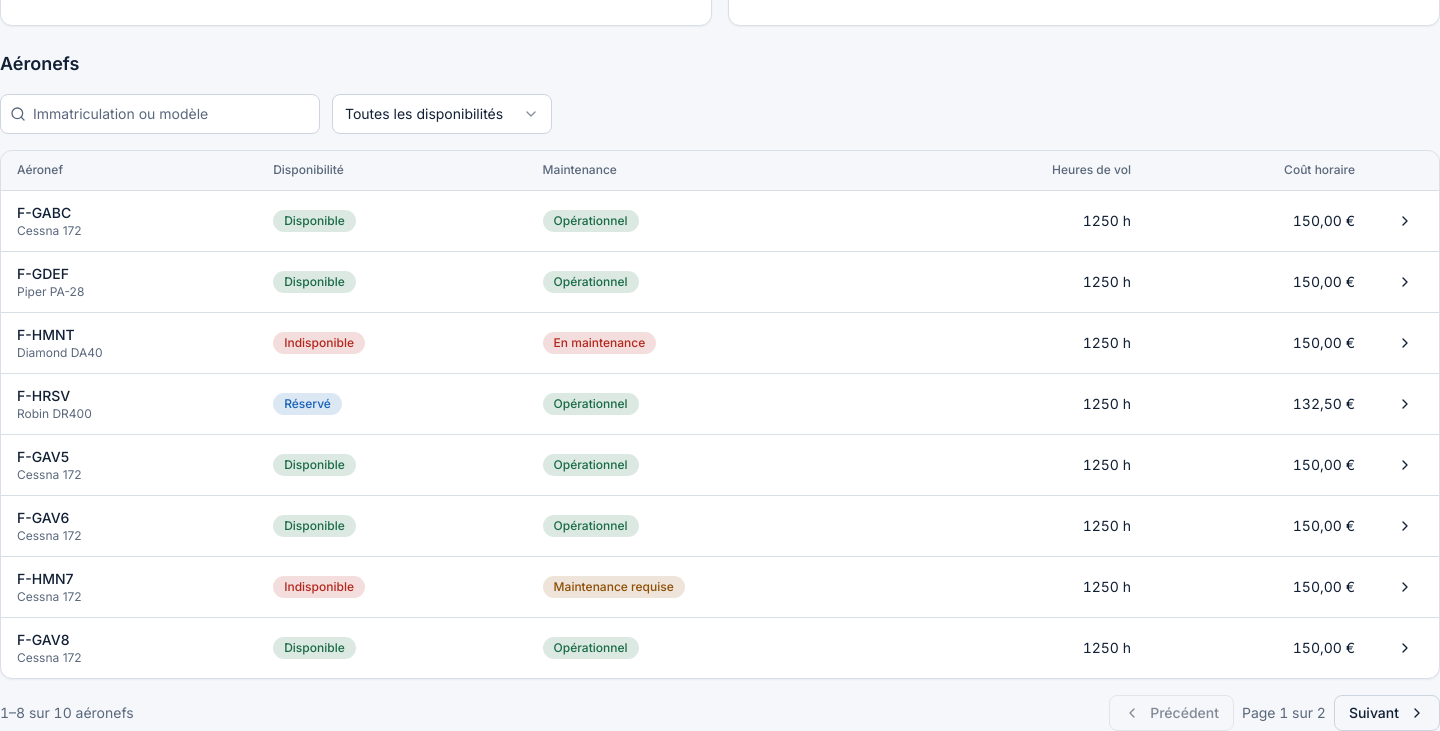
Test: FleetDashboard Component › affiche la pagination et change de page avec Précédent et Suivant
(page scrolled)
Expected: the text "F-GABC" is shown, [17,204,71,221]
Expected: the text "Page 1 sur 2" is shown, [1242,703,1326,723]
Step 1. Click the button "Suivant" → x=1387, y=713, box [1334,695,1439,730]
(page scrolled)
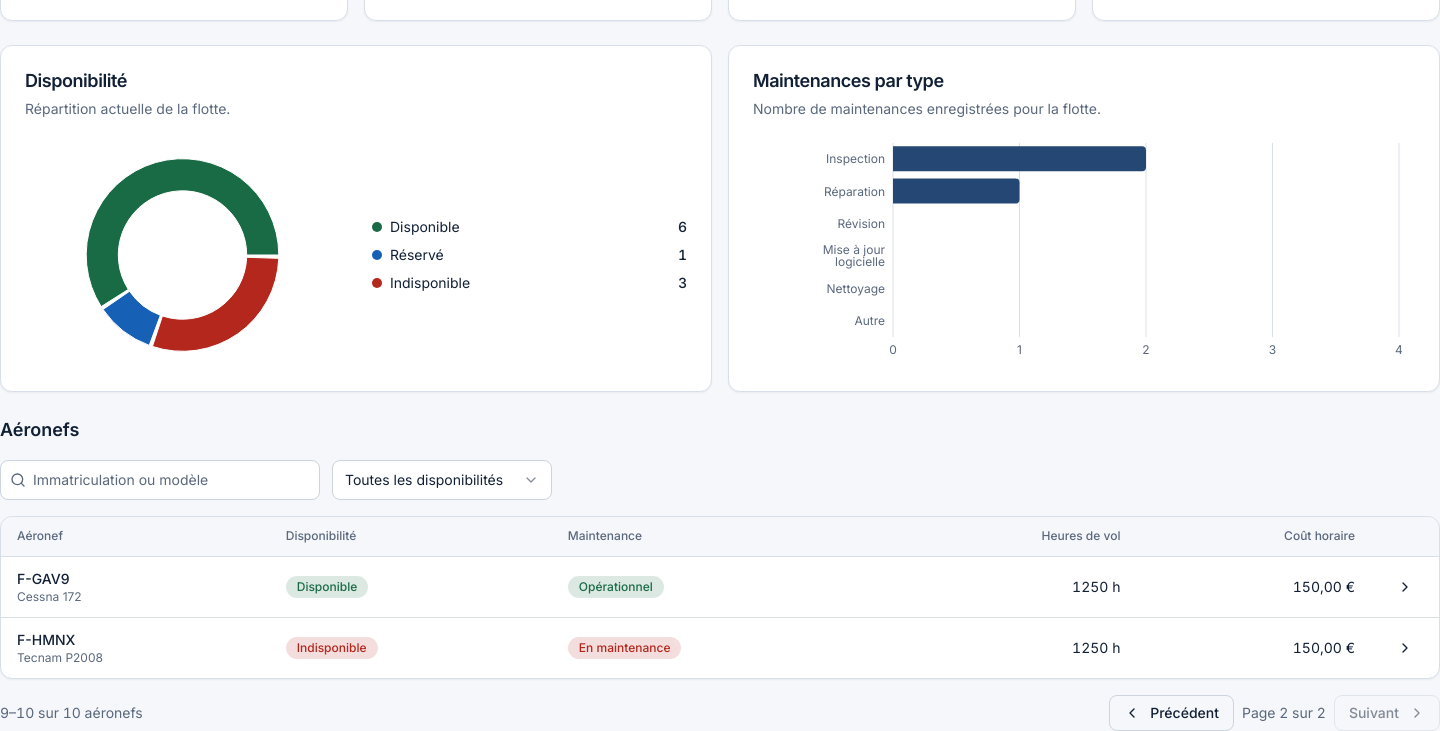
Now the text "F-GAV9" is shown, box [17,570,70,587]
Now the text "F-HMNX" is shown, box [17,631,75,648]
Now the text "F-GABC" is gone
Step 2. Click the button "Précédent" → x=1172, y=713, box [1109,695,1234,730]
(page scrolled)
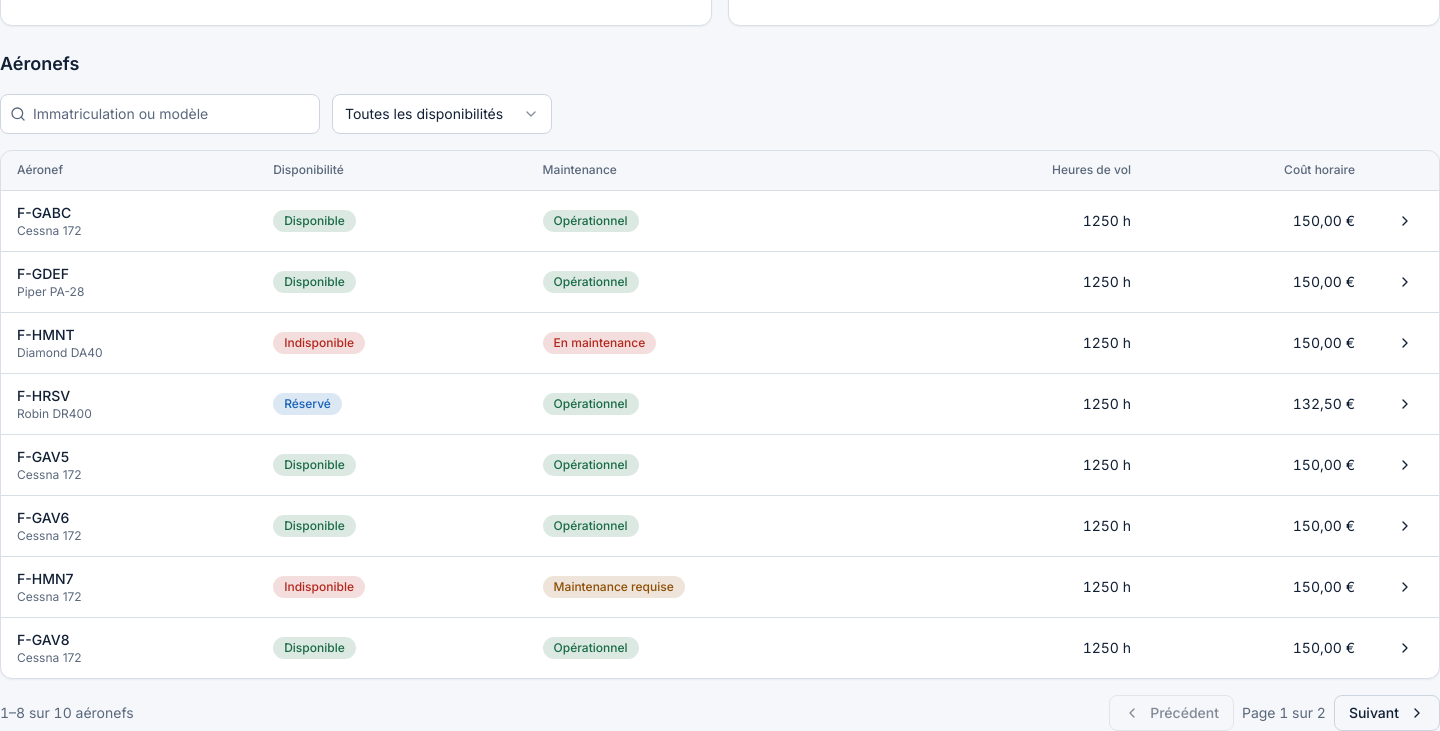
Now the text "F-GABC" is shown, box [17,204,71,221]
Step 3. Click the button "Suivant" → x=1387, y=713, box [1334,695,1439,730]
(page scrolled)
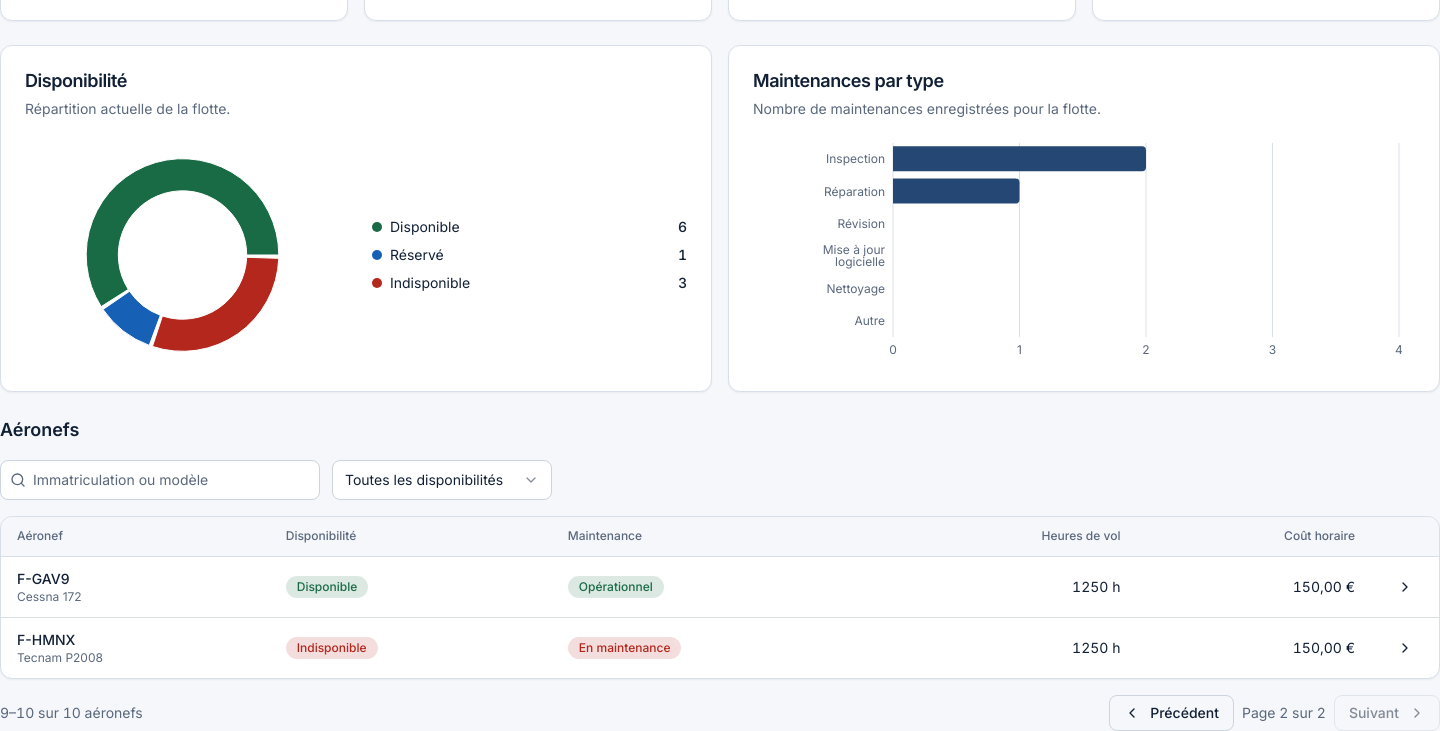
Now the text "F-GAV9" is shown, box [17,570,70,587]
Note: Une recherche ramène à la première page.
Step 4. Type "cessna" into the field named "Rechercher un aéronef" → x=160, y=480, box [0,460,320,500]
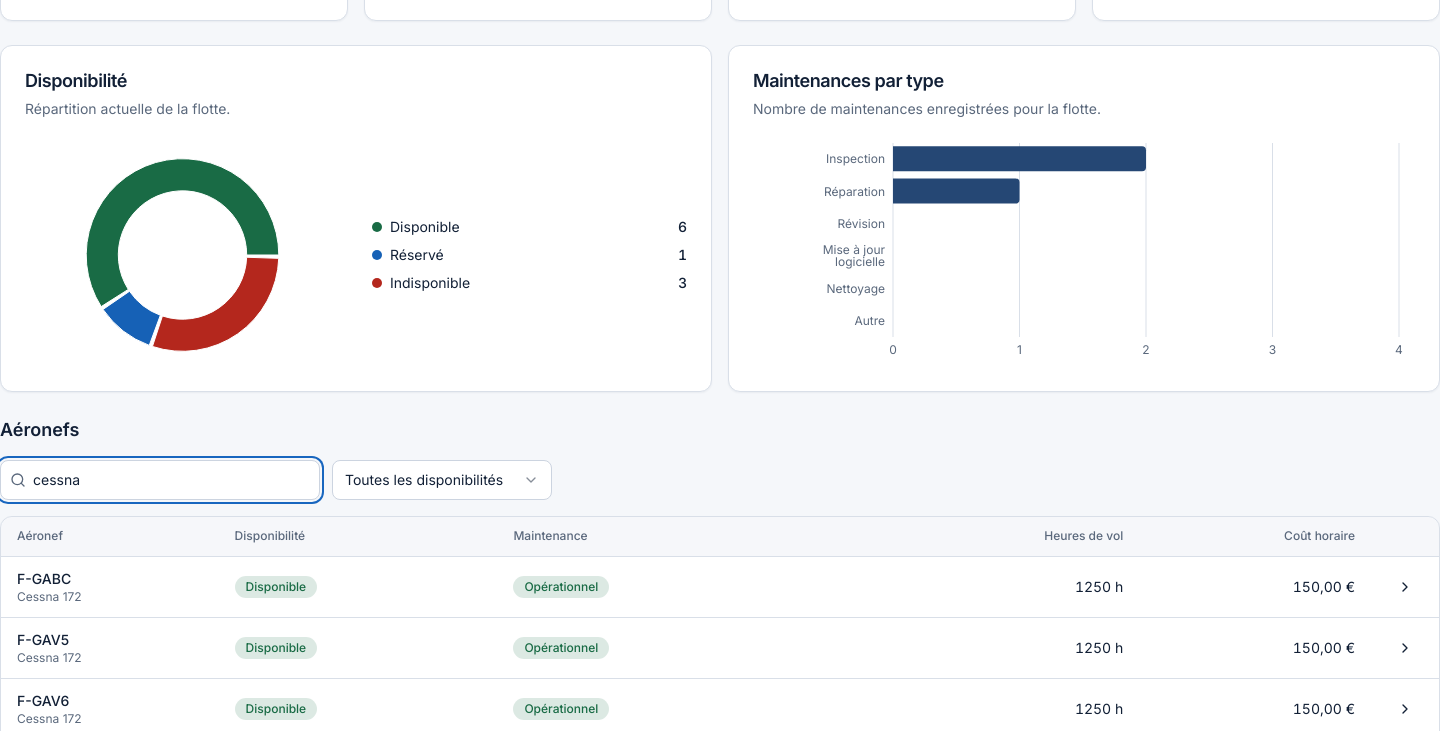
Now the text "F-GABC" is shown, box [17,570,71,587]
